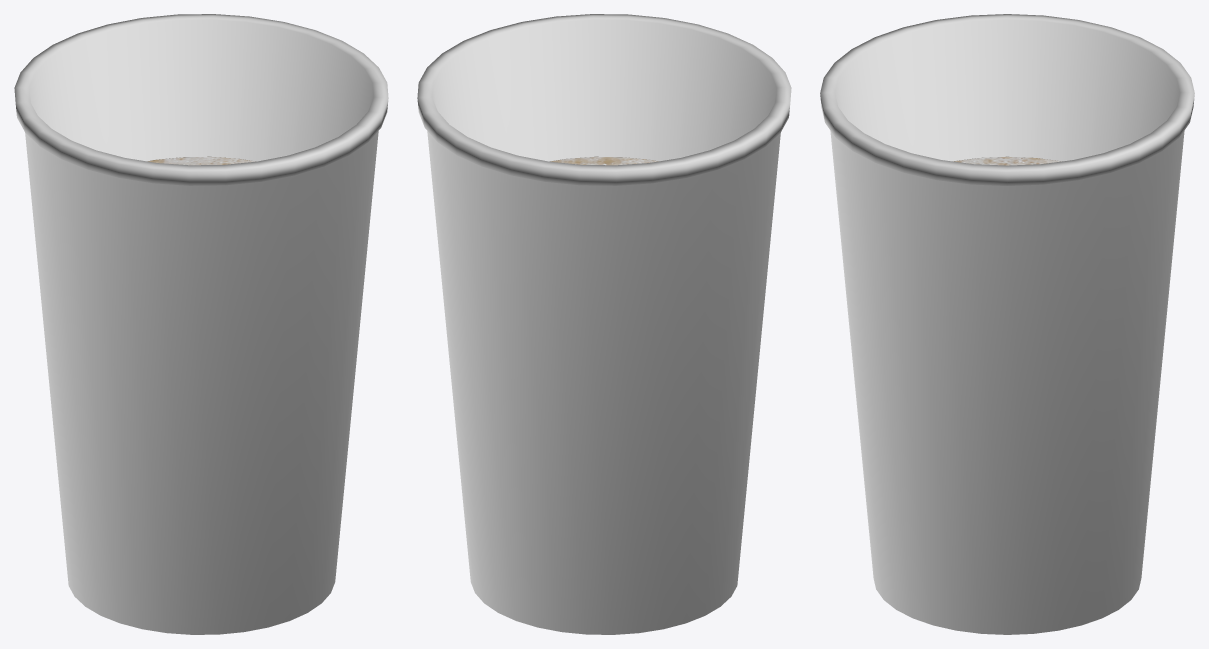
File: copo.glb
3 views of the same model, side by side, from view 1: azimuth 30°, elevation 25°; view 2: azimuth 150°, elevation 25°; view 3: azimuth 270°, elevation 25° (orthographic).
Parts seen in each view (by area): view 1: Cylinder, Cylinder.002; view 2: Cylinder, Cylinder.002; view 3: Cylinder, Cylinder.002.
Part boxes in pixels (x1,y1,x2,y2): Cylinder: (14, 14, 388, 634); Cylinder.002: (147, 156, 255, 165); Cylinder: (417, 14, 791, 634); Cylinder.002: (550, 156, 658, 165); Cylinder: (820, 14, 1194, 634); Cylinder.002: (953, 156, 1061, 165).
Size of the model in its own units: 0.069 by 0.0987 by 0.069.
2 materials, 2 textured.
